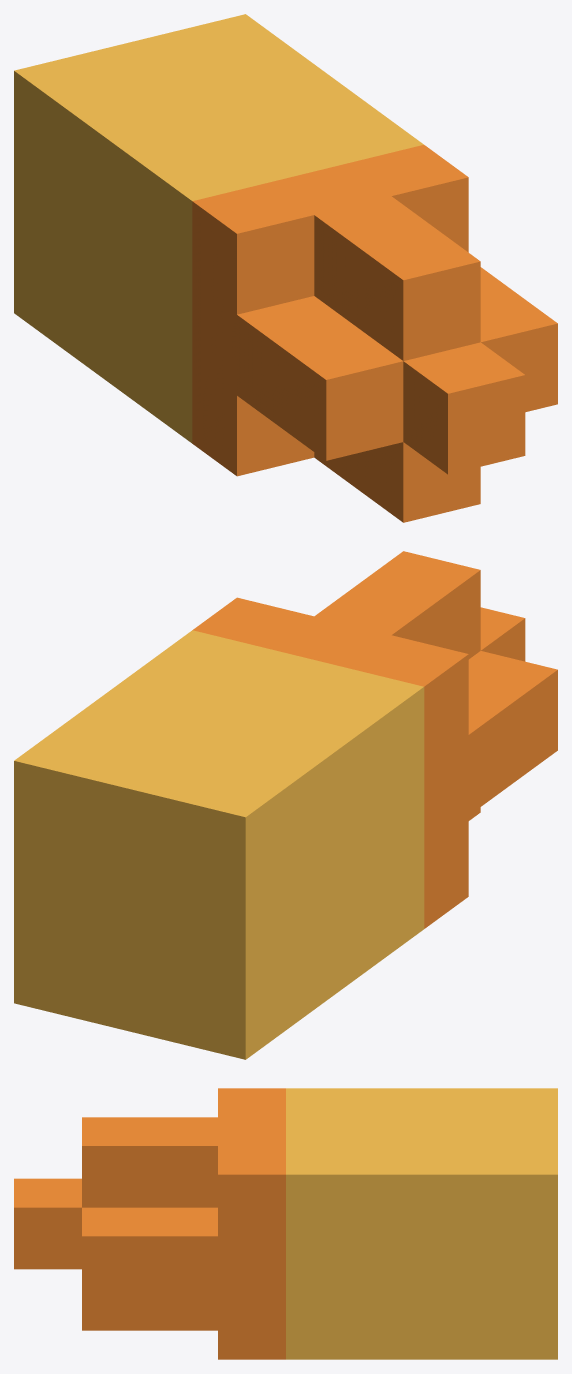
The model's file is Bullet.obj.
3 renders of one model, top to bottom at view 1: azimuth 30°, elevation 25°; view 2: azimuth 150°, elevation 25°; view 3: azimuth 270°, elevation 25°, orthographic. The views are drawn at different scales.
Bounding box in the file's own units: 0.3 × 0.3 × 0.8.
Materials: 1 (1 with a texture image).
